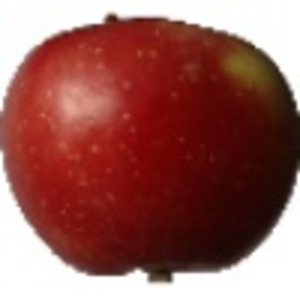maçã braeburn: (1, 16, 300, 276)
